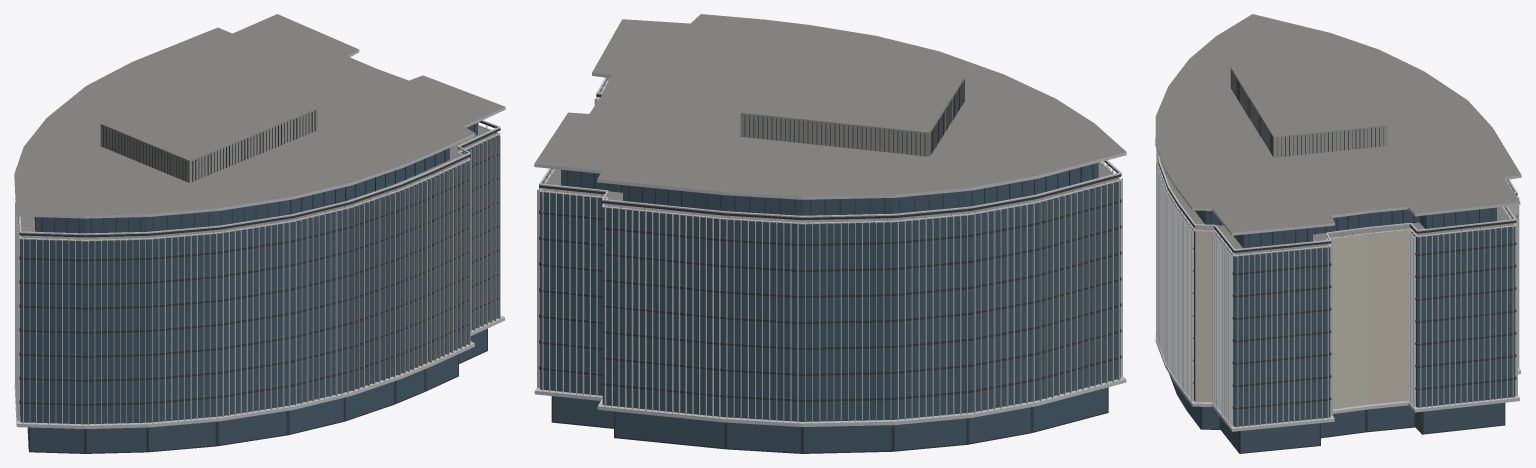
The model's file is the_point_paddington.glb.
3 renders of one model, left to right at view 1: azimuth 30°, elevation 25°; view 2: azimuth 150°, elevation 25°; view 3: azimuth 270°, elevation 25°, orthographic. The views are drawn at different scales.
Size of the model in its own units: 76.98 by 41.57 by 54.79.
